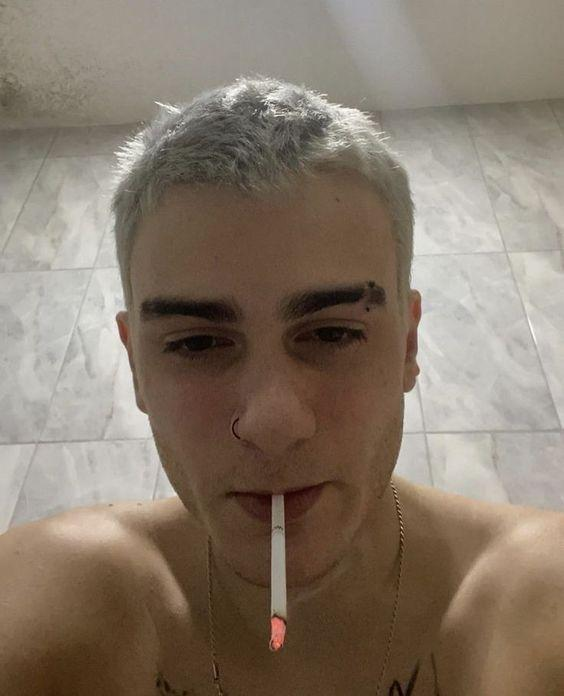cigarette: (269, 491, 289, 651)
